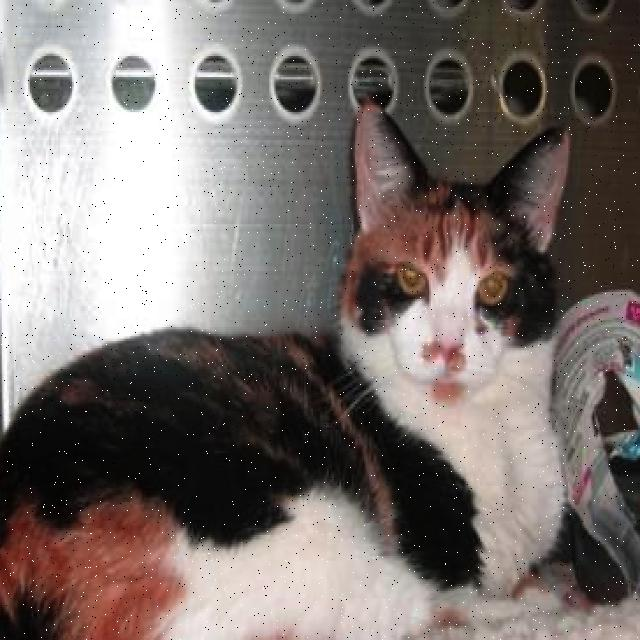Cat: (328, 116, 580, 449)
